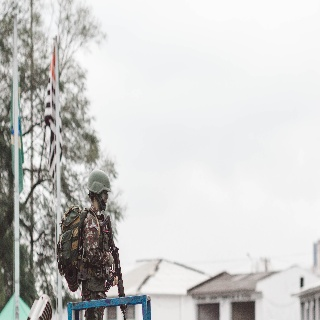rifle: (98, 212, 130, 320)
